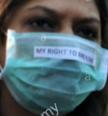with_mask: (1, 1, 108, 116)
